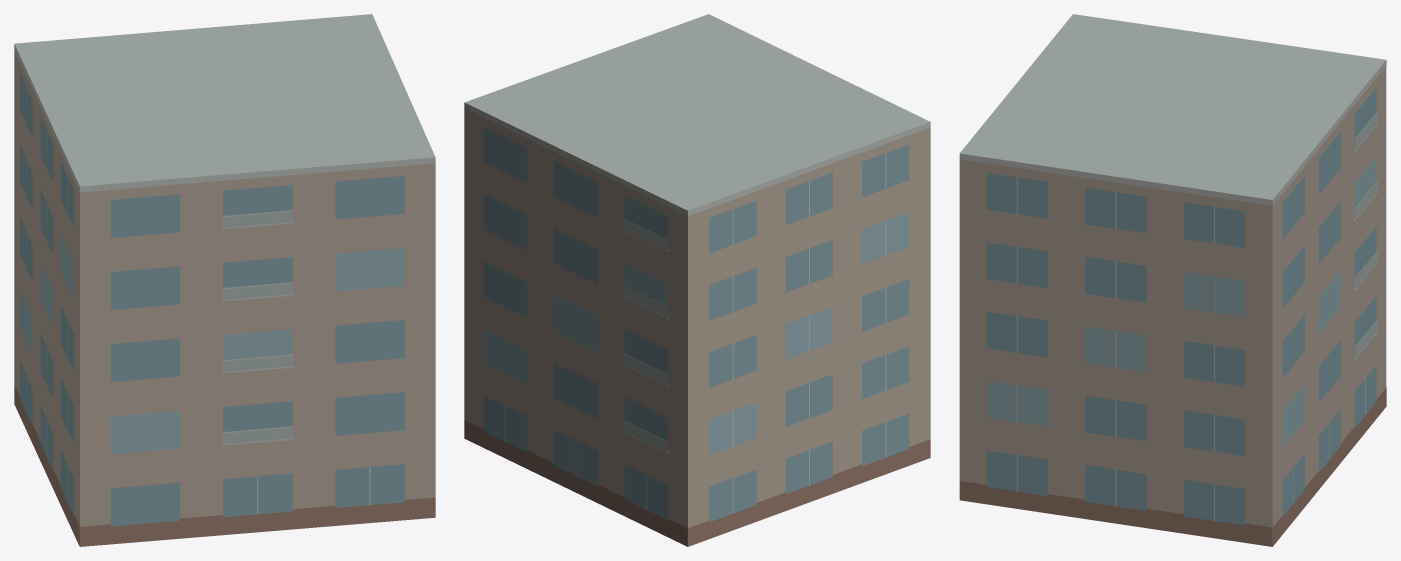
Rendered from survey-upis-32875172.glb.
3 renders of one model, left to right at view 1: azimuth 30°, elevation 25°; view 2: azimuth 150°, elevation 25°; view 3: azimuth 270°, elevation 25°, orthographic. The views are drawn at different scales.
Visible parts, largest first — view 1: survey-upis-32875172.tmp; view 2: survey-upis-32875172.tmp; view 3: survey-upis-32875172.tmp.
Part boxes in pixels (x1,y1,x2,y2): survey-upis-32875172.tmp: [14, 14, 435, 546]; survey-upis-32875172.tmp: [464, 14, 930, 546]; survey-upis-32875172.tmp: [959, 14, 1386, 546].
Size of the model in its own units: 16.69 by 14.5 by 16.18.
